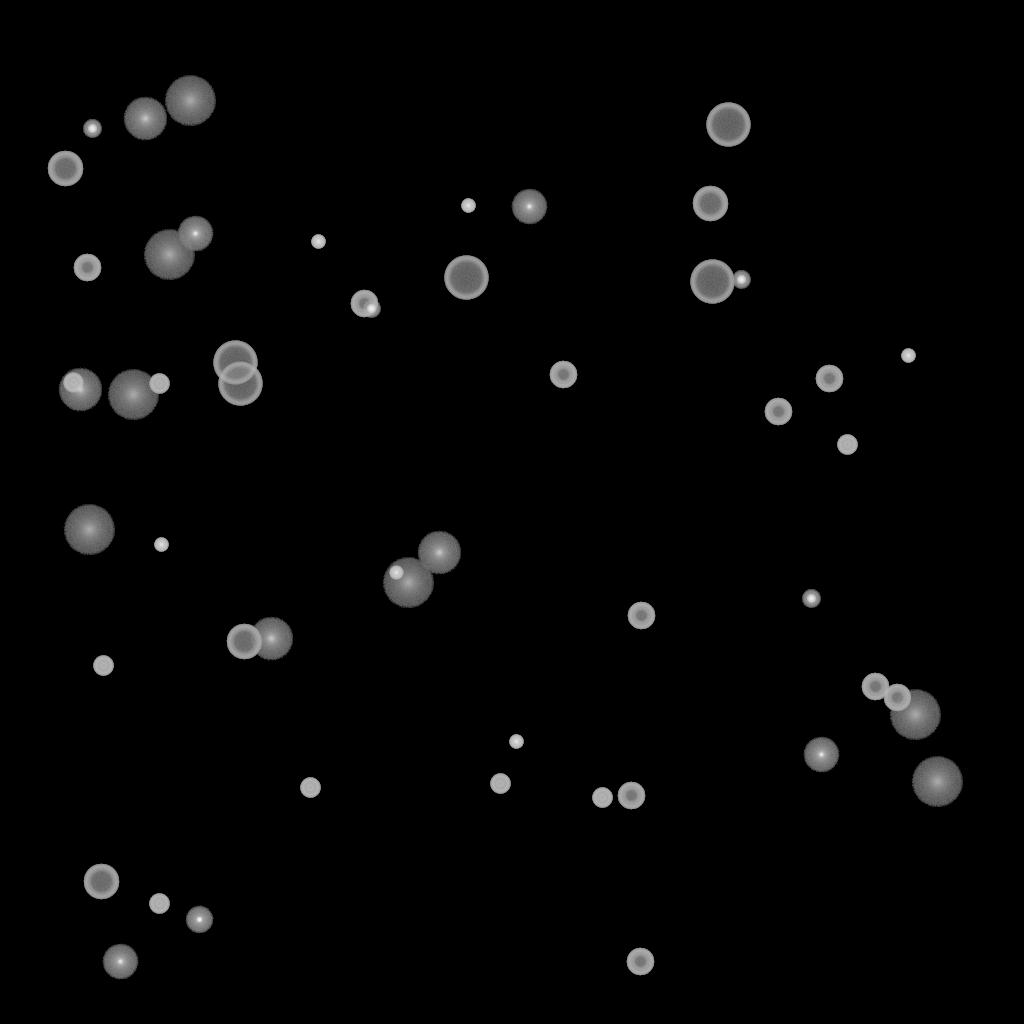depth:-10: (185, 906, 213, 934)
depth:-20: (83, 120, 101, 138), (732, 271, 750, 289), (362, 300, 380, 318), (802, 590, 820, 608)
depth:-30: (389, 566, 403, 580), (154, 538, 168, 552), (509, 735, 523, 749), (311, 235, 325, 249), (901, 349, 915, 363), (461, 199, 475, 213)
depth:-40: (149, 894, 169, 914), (63, 373, 83, 393), (490, 774, 510, 794), (592, 788, 612, 808), (300, 778, 320, 798), (149, 374, 169, 394), (93, 656, 113, 676), (837, 435, 857, 455)
depth:-50: (617, 782, 645, 810), (350, 290, 378, 318), (627, 602, 655, 630), (764, 398, 792, 426), (861, 673, 889, 701), (815, 365, 843, 393), (73, 254, 101, 282), (626, 948, 654, 976), (883, 684, 911, 712), (549, 361, 577, 389)
depth:-60: (47, 151, 83, 187), (83, 864, 119, 900), (692, 186, 728, 222), (226, 624, 262, 660)
depth:-70: (444, 256, 488, 300), (213, 341, 257, 385), (706, 103, 750, 147), (218, 362, 262, 406), (690, 260, 734, 304)
depth:0: (177, 216, 213, 252), (102, 944, 138, 980), (803, 737, 839, 773), (511, 189, 547, 225)
depth:10: (123, 97, 167, 141), (249, 617, 293, 661), (58, 368, 102, 412), (417, 531, 461, 575)
depth:20: (911, 757, 963, 807), (143, 230, 195, 280), (107, 370, 159, 420), (63, 505, 115, 555), (164, 76, 216, 126), (382, 558, 434, 608), (889, 690, 941, 740)
